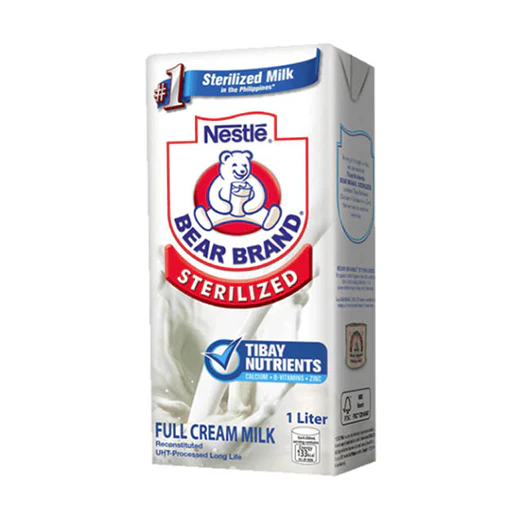non-toxic_waste: (145, 55, 376, 469)
